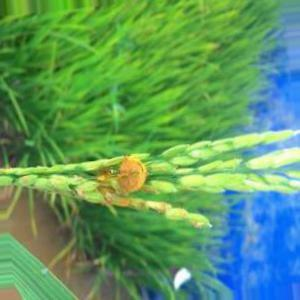Leaf_Scald: (108, 162, 156, 204)
